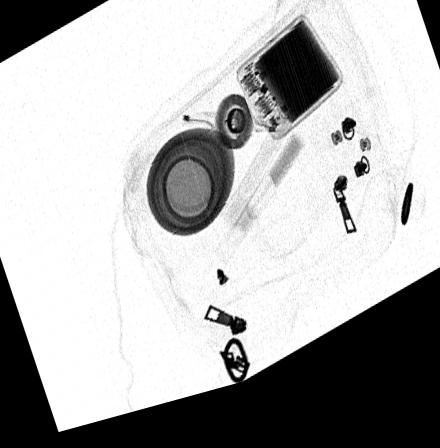Powerbank: (236, 28, 344, 155)
